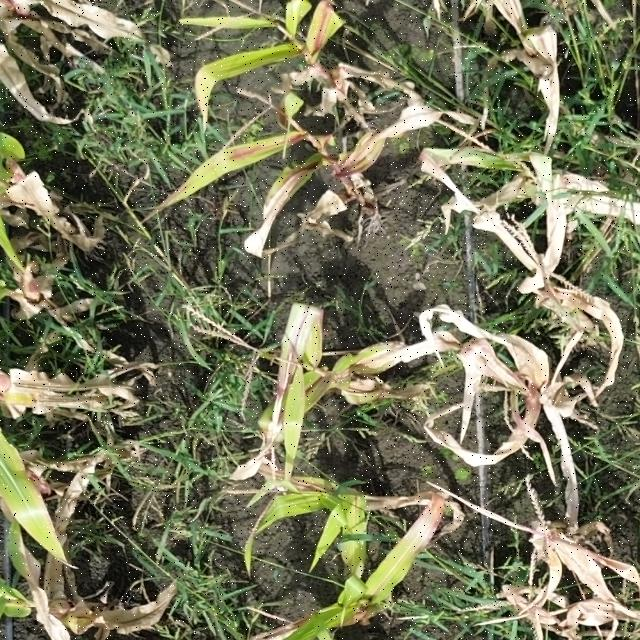northern-leaf-blight: (335, 341, 399, 384)
